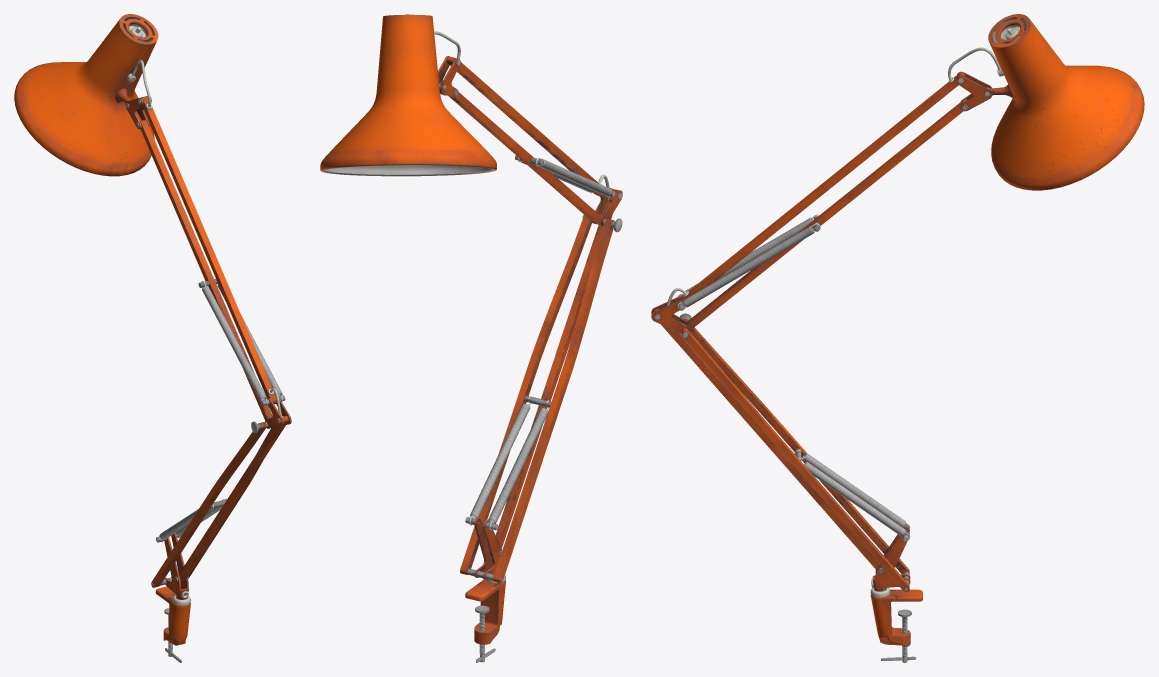
Rendered from desk_lamp_arm_01.glb.
The picture shows the model from 3 angles, left to right: view 1: azimuth 30°, elevation 25°; view 2: azimuth 150°, elevation 25°; view 3: azimuth 270°, elevation 25°; orthographic projection. The views are drawn at different scales.
Parts seen in each view (by area): view 1: desk_lamp_arm_01; view 2: desk_lamp_arm_01; view 3: desk_lamp_arm_01.
Boxes of the visible parts, x1=… form: desk_lamp_arm_01: x1=14, y1=14, x2=291, y2=662; desk_lamp_arm_01: x1=320, y1=14, x2=622, y2=662; desk_lamp_arm_01: x1=651, y1=14, x2=1144, y2=662.
Size of the model in its own units: 0.2017 by 0.8926 by 0.6139.
2 materials, 2 textured.
